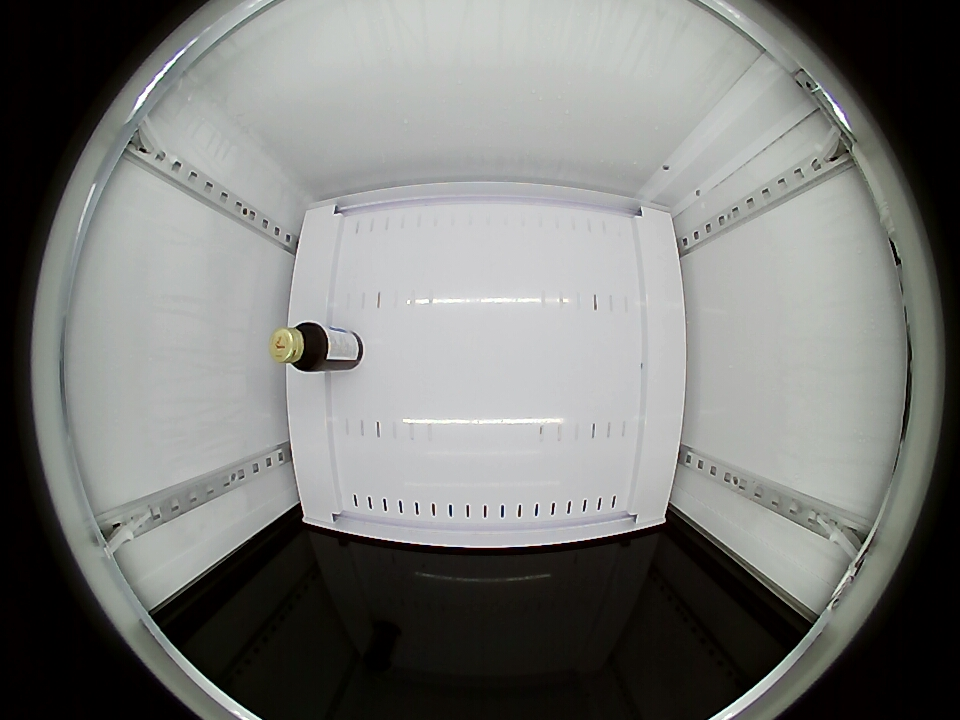libaojian: (270, 322, 328, 372)
